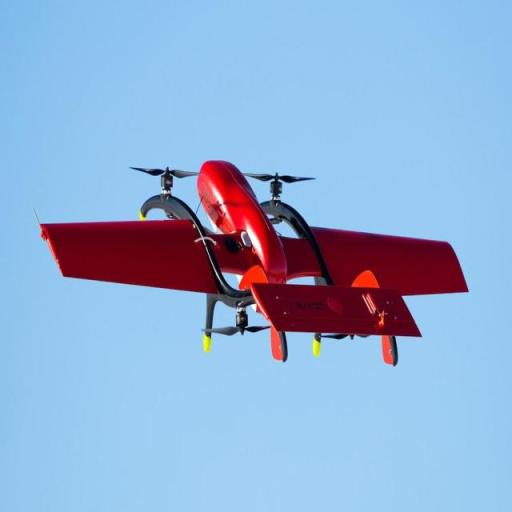uav: (35, 157, 471, 374)
